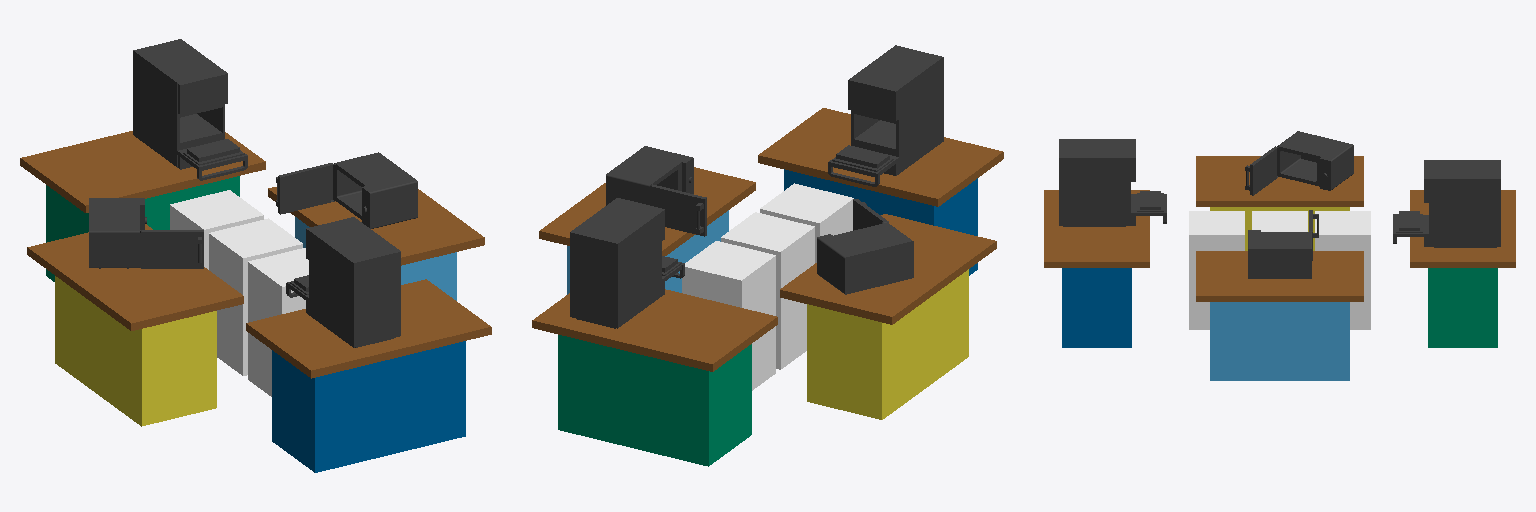
The robot description file, URDF, robot "four_tables_circle":
<?xml version="1.0" ?>
<robot name="four_tables_circle">

  <link name="world" />

<!--Стол №1-->
  <link name="table_1">
    <inertial>
      <origin xyz="0 0 0" rpy="0 0 0"/>
      <mass value="45.0"/>
      <inertia ixx="1.0" ixy="0" ixz="0" iyy="1.0" iyz="0" izz="1.0"/>
    </inertial>
    <visual>
      <origin xyz="0 0 0.7" rpy="0 0 0"/>
      <geometry><box size="1.2 0.75 0.05"/></geometry>
      <material name="wood"><color rgba="0.6 0.4 0.2 1"/></material>
    </visual>
    <collision>
      <origin xyz="0 0 0.7" rpy="0 0 0"/>
      <geometry><box size="1.2 0.75 0.05"/></geometry>
    </collision>
    <visual> <origin xyz="0 0 0.35" rpy="0 0 0"/>
      <geometry><box size="1.0 0.5 0.7"/></geometry>
    </visual>
    <collision>
      <origin xyz="0 0 0.7" rpy="0 0 0"/>
      <geometry><box size="1.0 0.5 0.7"/></geometry>
    </collision>
  </link>

  <joint name="joint_table_1" type="fixed">
    <parent link="world"/>
    <child link="table_1"/>
    <origin xyz="0.8 0 0" rpy="0 0 1.57"/>
  </joint>

<!--Стол №2-->
  <link name="table_2">
    <inertial>
      <origin xyz="0 0 0" rpy="0 0 0"/>
      <mass value="45.0"/>
      <inertia ixx="1.0" ixy="0" ixz="0" iyy="1.0" iyz="0" izz="1.0"/>
    </inertial>
    <visual>
      <origin xyz="0 0 0.7" rpy="0 0 0"/>
      <geometry><box size="1.2 0.75 0.05"/></geometry>
      <material name="wood"><color rgba="0.6 0.4 0.2 1"/></material>
    </visual>
    <collision>
      <origin xyz="0 0 0.7" rpy="0 0 0"/>
      <geometry><box size="1.2 0.75 0.05"/></geometry>
    </collision>
    <visual> <origin xyz="0 0 0.35" rpy="0 0 0"/>
      <geometry><box size="1.0 0.5 0.7"/></geometry>
    </visual>
    <collision>
      <origin xyz="0 0 0.7" rpy="0 0 0"/>
      <geometry><box size="1.0 0.5 0.7"/></geometry>
    </collision>
  </link>

  <joint name="joint_table_2" type="fixed">
    <parent link="world"/>
    <child link="table_2"/>
    <origin xyz="0 1.3 0" rpy="0 0 0"/> 
  </joint>

<!--Стол №3-->
  <link name="table_3">
    <inertial>
      <origin xyz="0 0 0" rpy="0 0 0"/>
      <mass value="45.0"/>
      <inertia ixx="1.0" ixy="0" ixz="0" iyy="1.0" iyz="0" izz="1.0"/>
    </inertial>
    <visual>
      <origin xyz="0 0 0.7" rpy="0 0 0"/>
      <geometry><box size="1.2 0.75 0.05"/></geometry>
      <material name="wood"><color rgba="0.6 0.4 0.2 1"/></material>
    </visual>
    <collision>
      <origin xyz="0 0 0.7" rpy="0 0 0"/>
      <geometry><box size="1.2 0.75 0.05"/></geometry>
    </collision>
    <visual> <origin xyz="0 0 0.35" rpy="0 0 0"/>
      <geometry><box size="1.0 0.5 0.7"/></geometry>
    </visual>
    <collision>
      <origin xyz="0 0 0.7" rpy="0 0 0"/>
      <geometry><box size="1.0 0.5 0.7"/></geometry>
    </collision>
  </link>

  <joint name="joint_table_3" type="fixed">
    <parent link="world"/>
    <child link="table_3"/>
    <origin xyz="-0.8 0 0" rpy="0 0 1.57"/> </joint>

<!--Стол №4-->
  <link name="table_4">
    <inertial>
      <origin xyz="0 0 0" rpy="0 0 0"/>
      <mass value="45.0"/>
      <inertia ixx="1.0" ixy="0" ixz="0" iyy="1.0" iyz="0" izz="1.0"/>
    </inertial>
    <visual>
      <origin xyz="0 0 0.7" rpy="0 0 0"/>
      <geometry><box size="1.2 0.75 0.05"/></geometry>
      <material name="wood"><color rgba="0.6 0.4 0.2 1"/></material>
    </visual>
    <collision>
      <origin xyz="0 0 0.7" rpy="0 0 0"/>
      <geometry><box size="1.2 0.75 0.05"/></geometry>
    </collision>
    <visual> <origin xyz="0 0 0.35" rpy="0 0 0"/>
      <geometry><box size="1.0 0.5 0.7"/></geometry>
    </visual>
    <collision>
      <origin xyz="0 0 0.7" rpy="0 0 0"/>
      <geometry><box size="1.0 0.5 0.7"/></geometry>
    </collision>
  </link>

  <joint name="joint_table_4" type="fixed">
    <parent link="world"/>
    <child link="table_4"/>
    <origin xyz="0 -1.3 0" rpy="0 0 0"/>
 </joint>

 <!--Кубик №1-->
 <link name="cube_1">
    <inertial>
      <origin xyz="0 0 0" rpy="0 0 0"/>
      <mass value="45.0"/>
      <inertia ixx="1.0" ixy="0" ixz="0" iyy="1.0" iyz="0" izz="1.0"/>
    </inertial>
    <visual>
      <origin xyz="0 0 0" rpy="0 0 0"/>
      <geometry><box size="0.4 0.4 0.75"/></geometry>
      <material name="white"><color rgba="1 1 1 1"/></material>
    </visual>
    <collision>
      <origin xyz="0 0 0" rpy="0 0 0"/>
      <geometry><box size="0.4 0.4 0.75"/></geometry>
    </collision>
 </link>

  <joint name="joint_cube_1" type="fixed">
    <parent link="world"/>
    <child link="cube_1"/>
    <origin xyz="0 -0.45 0.375" rpy="0 0 0"/>
 </joint>

 <!--Кубик №2-->
 <link name="cube_2">
    <inertial>
      <origin xyz="0 0 0" rpy="0 0 0"/>
      <mass value="45.0"/>
      <inertia ixx="1.0" ixy="0" ixz="0" iyy="1.0" iyz="0" izz="1.0"/>
    </inertial>
    <visual>
      <origin xyz="0 0 0" rpy="0 0 0"/>
      <geometry><box size="0.4 0.4 0.75"/></geometry>
      <material name="white"><color rgba="1 1 1 1"/></material>
    </visual>
    <collision>
      <origin xyz="0 0 0" rpy="0 0 0"/>
      <geometry><box size="0.4 0.4 0.75"/></geometry>
    </collision>
 </link>

  <joint name="joint_cube_2" type="fixed">
    <parent link="world"/>
    <child link="cube_2"/>
    <origin xyz="0 0 0.375" rpy="0 0 0"/>
 </joint> 

 <!--Кубик №3-->
 <link name="cube_3">
    <inertial>
      <origin xyz="0 0 0" rpy="0 0 0"/>
      <mass value="45.0"/>
      <inertia ixx="1.0" ixy="0" ixz="0" iyy="1.0" iyz="0" izz="1.0"/>
    </inertial>
    <visual>
      <origin xyz="0 0 0" rpy="0 0 0"/>
      <geometry><box size="0.4 0.4 0.75"/></geometry>
      <material name="white"><color rgba="1 1 1 1"/></material>
    </visual>
    <collision>
      <origin xyz="0 0 0" rpy="0 0 0"/>
      <geometry><box size="0.4 0.4 0.75"/></geometry>
    </collision>
 </link>

 <joint name="joint_cube_3" type="fixed">
    <parent link="world"/>
    <child link="cube_3"/>
    <origin xyz="0 0.45 0.375" rpy="0 0 0"/>
 </joint> 

<!-- Микроволновка на столе №1 -->
 <link name="microwave_1">
    <inertial>
      <origin xyz="0 0 0" rpy="0 0 0"/>
      <mass value="5.0"/> <inertia ixx="0.1" ixy="0" ixz="0" iyy="0.1" iyz="0" izz="0.1"/>
    </inertial>
    
    <visual>
        <origin xyz="0 0 0" rpy="0 0 0" />
        <geometry>
            <mesh filename="microwave.stl" scale="0.0009 0.0009 0.0009"/>
        </geometry>
        <material name="gray">
            <color rgba="0.3 0.3 0.3 1.0" />
        </material>
    </visual>

    <collision>
      <origin xyz="0 0 0" rpy="0 0 0" />
      <geometry>
        <mesh filename="microwave.stl" scale="0.0009 0.0009 0.0009"/>
      </geometry>
    </collision>
</link>

  <joint name="joint_micro_1" type="fixed">
    <parent link="table_1"/>
    <child link="microwave_1"/>
    <origin xyz="0 0 0.75" rpy="0 0 0"/>
 </joint> 

 <!-- Микроволновка на столе №3 -->
 <link name="microwave_3">
    <inertial>
      <origin xyz="0 0 0" rpy="0 0 0"/>
      <mass value="5.0"/> <inertia ixx="0.1" ixy="0" ixz="0" iyy="0.1" iyz="0" izz="0.1"/>
    </inertial>
    
    <visual>
        <origin xyz="0 0 0" rpy="0 0 0" />
        <geometry>
            <mesh filename="microwave.stl" scale="0.0009 0.0009 0.0009"/>
        </geometry>
        <material name="gray">
            <color rgba="0.3 0.3 0.3 1.0" />
        </material>
    </visual>

    <collision>
      <origin xyz="0 0 0" rpy="0 0 0" />
      <geometry>
        <mesh filename="microwave.stl" scale="0.0009 0.0009 0.0009"/>
      </geometry>
    </collision>
</link>

  <joint name="joint_micro_3" type="fixed">
    <parent link="table_3"/>
    <child link="microwave_3"/>
    <origin xyz="0.25 0 0.75" rpy="0 0 2.62"/>
 </joint> 

 <!-- Духовка на столе №4 -->
 <link name="oven_4">
    <inertial>
      <origin xyz="0 0 0" rpy="0 0 0"/>
      <mass value="5.0"/> <inertia ixx="0.1" ixy="0" ixz="0" iyy="0.1" iyz="0" izz="0.1"/>
    </inertial>
    
    <visual>
        <origin xyz="0 0 0" rpy="0 0 0" />
        <geometry>
            <mesh filename="oven_open.stl" scale="0.0009 0.0009 0.0009"/>
        </geometry>
        <material name="gray">
            <color rgba="0.3 0.3 0.3 1.0" />
        </material>
    </visual>

    <collision>
      <origin xyz="0 0 0" rpy="0 0 0" />
      <geometry>
        <mesh filename="oven_open.stl" scale="0.0009 0.0009 0.0009"/>
      </geometry>
    </collision>
</link>

  <joint name="joint_oven_4" type="fixed">
    <parent link="table_4"/>
    <child link="oven_4"/>
    <origin xyz="-0.1 0 0.75" rpy="0 0 0"/>
 </joint> 

  <!-- Духовка на столе №2 -->
 <link name="oven_2">
    <inertial>
      <origin xyz="0 0 0" rpy="0 0 0"/>
      <mass value="5.0"/> <inertia ixx="0.1" ixy="0" ixz="0" iyy="0.1" iyz="0" izz="0.1"/>
    </inertial>
    
    <visual>
        <origin xyz="0 0 0" rpy="0 0 0" />
        <geometry>
            <mesh filename="oven_open.stl" scale="0.0009 0.0009 0.0009"/>
        </geometry>
        <material name="gray">
            <color rgba="0.3 0.3 0.3 1.0" />
        </material>
    </visual>

    <collision>
      <origin xyz="0 0 0" rpy="0 0 0" />
      <geometry>
        <mesh filename="oven_open.stl" scale="0.0009 0.0009 0.0009"/>
      </geometry>
    </collision>
</link>

  <joint name="joint_oven_2" type="fixed">
    <parent link="table_2"/>
    <child link="oven_2"/>
    <origin xyz="0.25 0 0.75" rpy="0 0 3.14"/>
 </joint> 

  <!-- Гриль на столе №2 -->
 <link name="grill_2">
    <inertial>
      <origin xyz="0 0 0" rpy="0 0 0"/>
      <mass value="5.0"/> <inertia ixx="0.1" ixy="0" ixz="0" iyy="0.1" iyz="0" izz="0.1"/>
    </inertial>
    
    <visual>
        <origin xyz="0 0 0" rpy="0 0 0" />
        <geometry>
            <mesh filename="grill_open.stl" scale="0.0009 0.0009 0.0009"/>
        </geometry>
        <material name="gray">
            <color rgba="0.3 0.3 0.3 1.0" />
        </material>
    </visual>

    <collision>
      <origin xyz="0 0 0" rpy="0 0 0" />
      <geometry>
        <mesh filename="grill_open.stl" scale="0.0009 0.0009 0.0009"/>
      </geometry>
    </collision>
</link>

  <joint name="joint_grill_2" type="fixed">
    <parent link="table_2"/>
    <child link="grill_2"/>
    <origin xyz="-0.25 -0.2 0.75" rpy="0 0 0"/>
 </joint> 

   <!-- Гриль на столе №3 -->
 <link name="grill_3">
    <inertial>
      <origin xyz="0 0 0" rpy="0 0 0"/>
      <mass value="5.0"/> <inertia ixx="0.1" ixy="0" ixz="0" iyy="0.1" iyz="0" izz="0.1"/>
    </inertial>
    
    <visual>
        <origin xyz="0 0 0" rpy="0 0 0" />
        <geometry>
            <mesh filename="grill_open.stl" scale="0.0009 0.0009 0.0009"/>
        </geometry>
        <material name="gray">
            <color rgba="0.3 0.3 0.3 1.0" />
        </material>
    </visual>

    <collision>
      <origin xyz="0 0 0" rpy="0 0 0" />
      <geometry>
        <mesh filename="grill_open.stl" scale="0.0009 0.0009 0.0009"/>
      </geometry>
    </collision>
</link>

  <joint name="joint_grill_3" type="fixed">
    <parent link="table_3"/>
    <child link="grill_3"/>
    <origin xyz="-0.4 -0.1 0.75" rpy="0 0 0"/>
 </joint> 

</robot>

--- What the picture shows (computed from the rendered views, not written in the file) ---
Views: 3 orthographic renders of the robot side by side, from view 1: azimuth 30°, elevation 25°; view 2: azimuth 150°, elevation 25°; view 3: azimuth 270°, elevation 25°.
Model four_tables_circle with 14 links and 13 joints (13 fixed), rooted at world, posed all joints at 0.
Visible links, largest first — view 1: table_4, table_3, table_2, oven_2, oven_4, microwave_1, table_1, microwave_3, cube_2, cube_1, cube_3; view 2: table_2, table_3, table_4, oven_4, oven_2, cube_3, microwave_3, cube_2, microwave_1, table_1, cube_1; view 3: table_1, table_4, table_2, oven_2, oven_4, table_3, microwave_3, microwave_1, cube_1, cube_3, cube_2.
Link boxes in pixels (<box>): table_4: <box>246,279,491,472</box>; table_3: <box>27,224,243,426</box>; table_2: <box>20,131,265,281</box>; oven_2: <box>133,39,247,180</box>; oven_4: <box>286,217,400,347</box>; microwave_1: <box>276,152,417,228</box>; table_1: <box>268,187,484,300</box>; microwave_3: <box>89,198,203,268</box>; cube_2: <box>209,218,302,375</box>; cube_1: <box>248,248,308,396</box>; cube_3: <box>170,190,263,269</box>; table_2: <box>532,289,777,466</box>; table_3: <box>780,214,996,419</box>; table_4: <box>758,108,1003,275</box>; oven_4: <box>828,45,943,186</box>; oven_2: <box>570,198,684,328</box>; cube_3: <box>682,241,775,390</box>; microwave_3: <box>817,199,913,294</box>; cube_2: <box>721,212,814,369</box>; microwave_1: <box>606,146,706,236</box>; table_1: <box>539,167,755,294</box>; cube_1: <box>760,183,853,262</box>; table_1: <box>1196,251,1363,380</box>; table_4: <box>1044,190,1149,347</box>; table_2: <box>1410,190,1515,347</box>; oven_2: <box>1393,160,1500,247</box>; oven_4: <box>1059,139,1166,226</box>; table_3: <box>1196,156,1363,250</box>; microwave_3: <box>1245,131,1353,195</box>; microwave_1: <box>1248,210,1318,278</box>; cube_1: <box>1189,211,1244,329</box>; cube_3: <box>1315,211,1370,329</box>; cube_2: <box>1252,211,1307,231</box>.
Size in the robot's own frame: 2.35 by 3.35 by 1.29 metres.
Meshes: 3 distinct files referenced, 4 mesh visuals loaded (2 binary STL); not drawn: 2 (reference not matched to a file when rendering).
